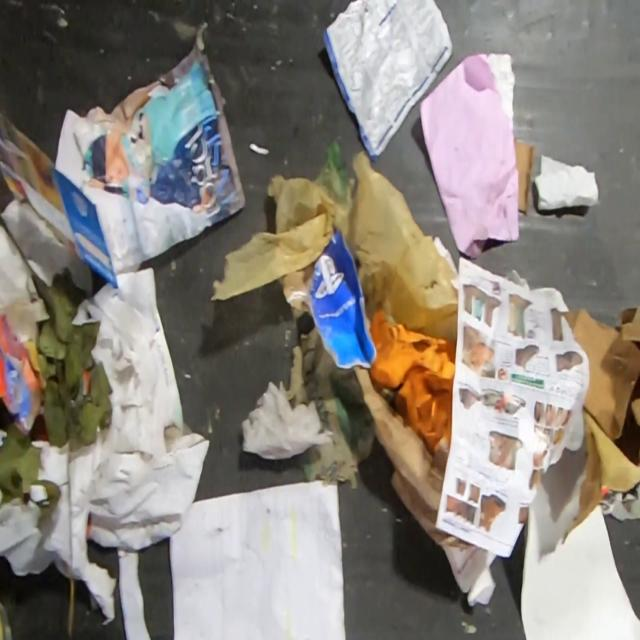cardboard: (353, 365, 476, 551), (285, 324, 375, 490), (0, 108, 73, 244), (0, 310, 48, 439), (529, 153, 600, 211), (276, 262, 316, 320), (513, 136, 535, 215)
soft_plastic: (209, 150, 458, 332)
